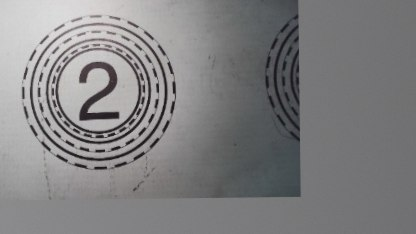2r: (16, 13, 178, 173)
